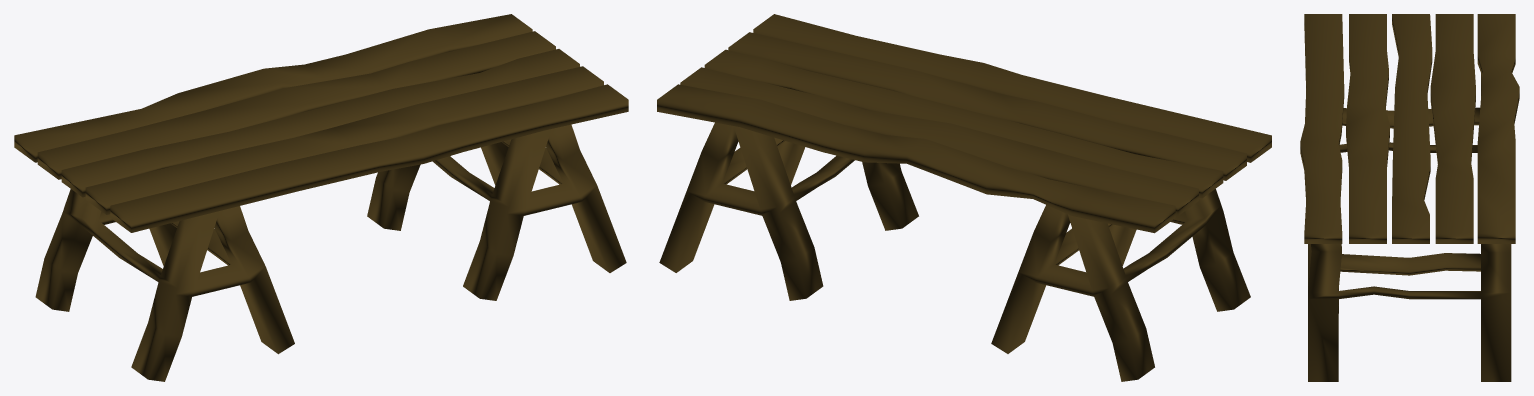
File: Table.fbx
The picture shows the model from 3 angles, left to right: view 1: azimuth 30°, elevation 25°; view 2: azimuth 150°, elevation 25°; view 3: azimuth 270°, elevation 25°; orthographic projection. The views are drawn at different scales.
Visible parts, largest first — view 1: Cube; view 2: Cube; view 3: Cube.
Boxes of the visible parts, x1,y1,x2,y2 form: Cube: [14, 14, 628, 381]; Cube: [657, 14, 1271, 381]; Cube: [1300, 14, 1519, 381].
Size of the model in its own units: 600 by 205 by 254.
